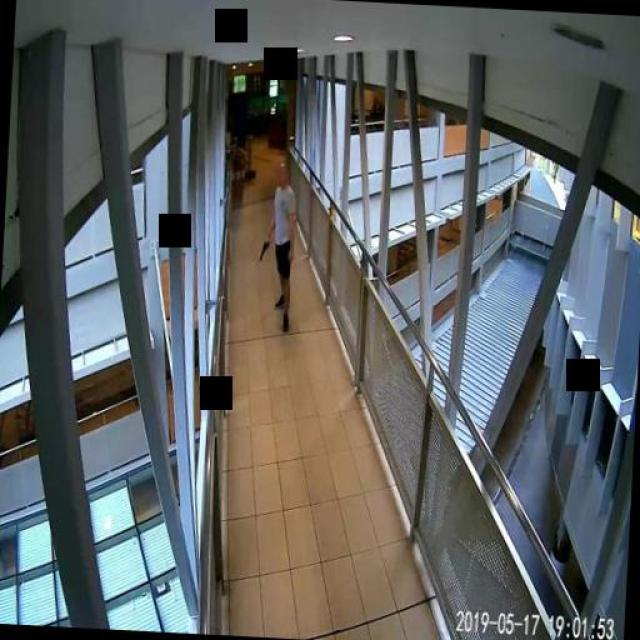gun: (259, 239, 269, 260)
